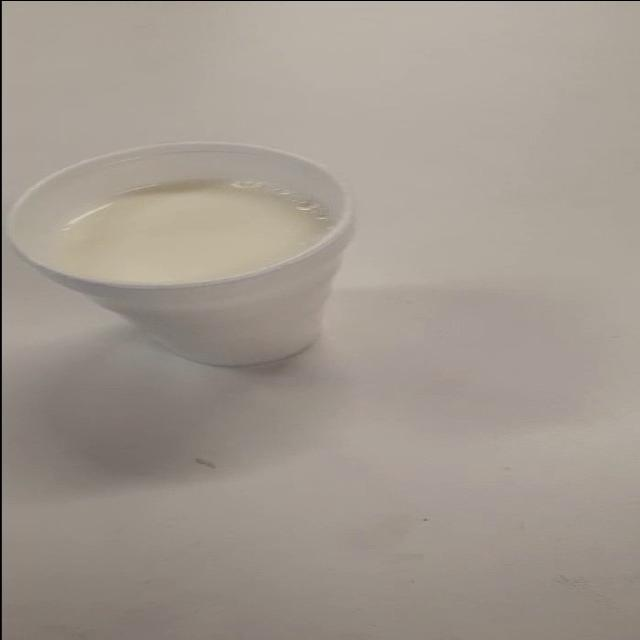Milk: (0, 130, 438, 392)
